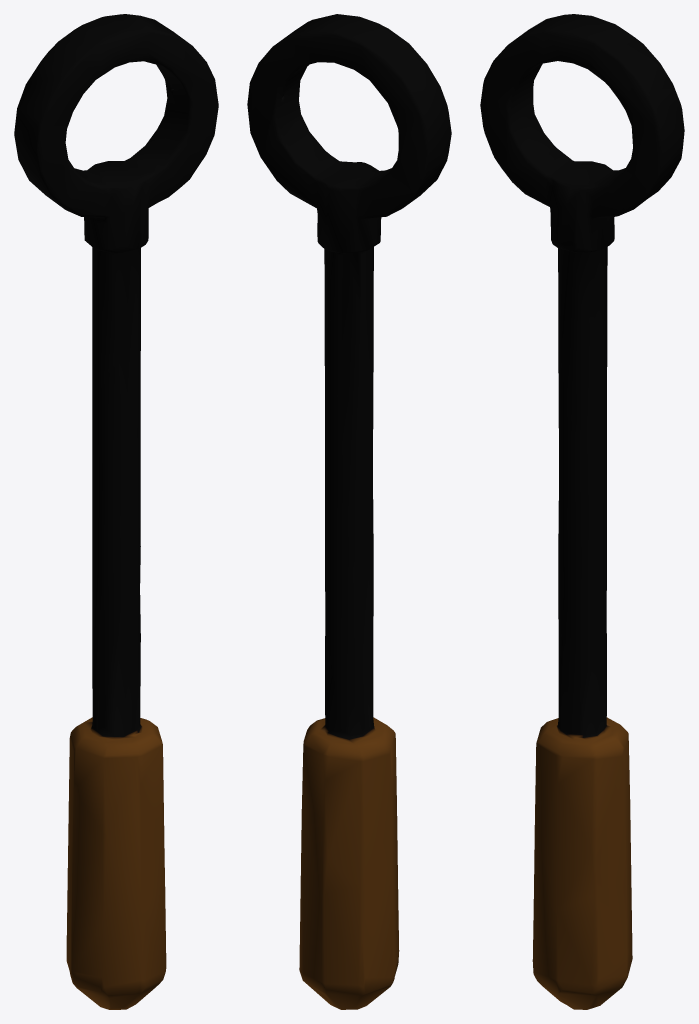
Rendered from gen3d-branding-iron-lod1.glb.
3 views of the same model, side by side, from view 1: azimuth 30°, elevation 25°; view 2: azimuth 150°, elevation 25°; view 3: azimuth 330°, elevation 25° (orthographic).
Parts seen in each view (by area): view 1: part_0; view 2: part_0; view 3: part_0.
Part boxes in pixels (<box>): part_0: <box>14,14,218,1009</box>; part_0: <box>247,14,451,1009</box>; part_0: <box>480,14,684,1009</box>.
Bounding box in the file's own units: 0.1951 × 0.9998 × 0.0959.
